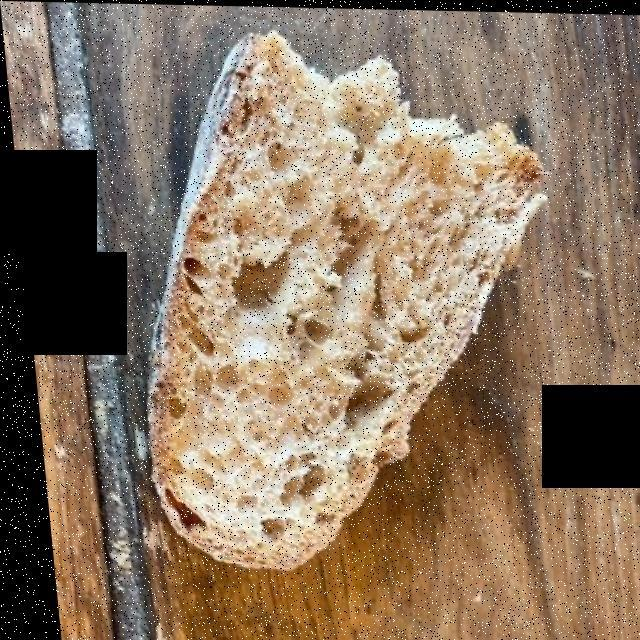bread: (109, 25, 552, 591)
